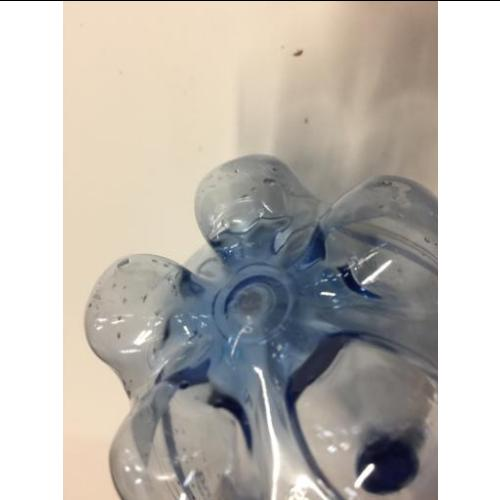plastic: (84, 156, 437, 499)
